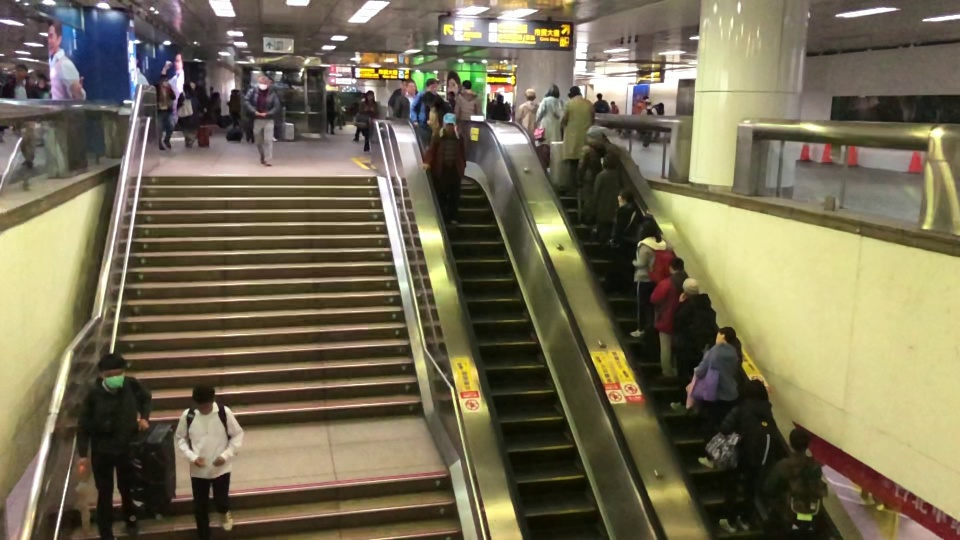person_head: (96, 353, 126, 387), (743, 380, 771, 412), (192, 381, 216, 415), (786, 426, 811, 452), (639, 217, 663, 242), (712, 327, 734, 345), (439, 113, 458, 132), (668, 255, 684, 276), (616, 188, 634, 206), (681, 277, 698, 296), (544, 87, 561, 103), (430, 95, 444, 114), (586, 125, 603, 140), (566, 86, 584, 100), (404, 77, 417, 96), (253, 77, 268, 93), (520, 86, 534, 103), (600, 157, 616, 171), (36, 73, 48, 91), (11, 65, 27, 78), (424, 78, 438, 91), (362, 88, 374, 101), (158, 75, 169, 86), (594, 91, 604, 102), (495, 93, 505, 104), (459, 81, 471, 90), (400, 78, 408, 91), (183, 82, 192, 93), (656, 101, 664, 111), (230, 88, 238, 96), (447, 91, 455, 99), (645, 98, 652, 107), (641, 95, 648, 103), (610, 99, 616, 108), (326, 89, 332, 97), (359, 93, 365, 101), (208, 85, 214, 92), (332, 92, 338, 98)
person_vbox: (75, 353, 153, 539), (173, 381, 243, 540), (717, 380, 776, 535), (686, 327, 746, 466), (761, 427, 827, 540), (668, 277, 717, 411), (421, 112, 468, 221), (647, 256, 686, 386), (626, 218, 666, 338), (241, 78, 283, 170), (2, 65, 39, 168), (560, 85, 594, 196), (609, 188, 644, 293), (590, 157, 625, 257), (574, 124, 608, 224), (528, 86, 566, 165), (173, 81, 207, 151), (409, 77, 445, 128), (154, 75, 177, 151), (353, 87, 378, 152), (512, 85, 537, 135), (453, 80, 484, 117), (425, 95, 449, 138), (393, 77, 417, 118), (638, 98, 657, 147), (387, 78, 408, 117), (487, 93, 511, 121), (353, 93, 365, 142), (227, 88, 241, 128), (32, 73, 51, 100), (208, 85, 221, 123), (652, 101, 664, 142), (325, 89, 335, 135), (590, 91, 609, 114), (332, 91, 343, 130), (632, 94, 648, 115), (444, 91, 455, 111), (607, 99, 619, 114)
